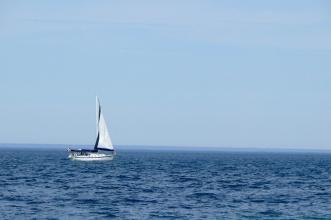fanchuan: (62, 94, 126, 162)
